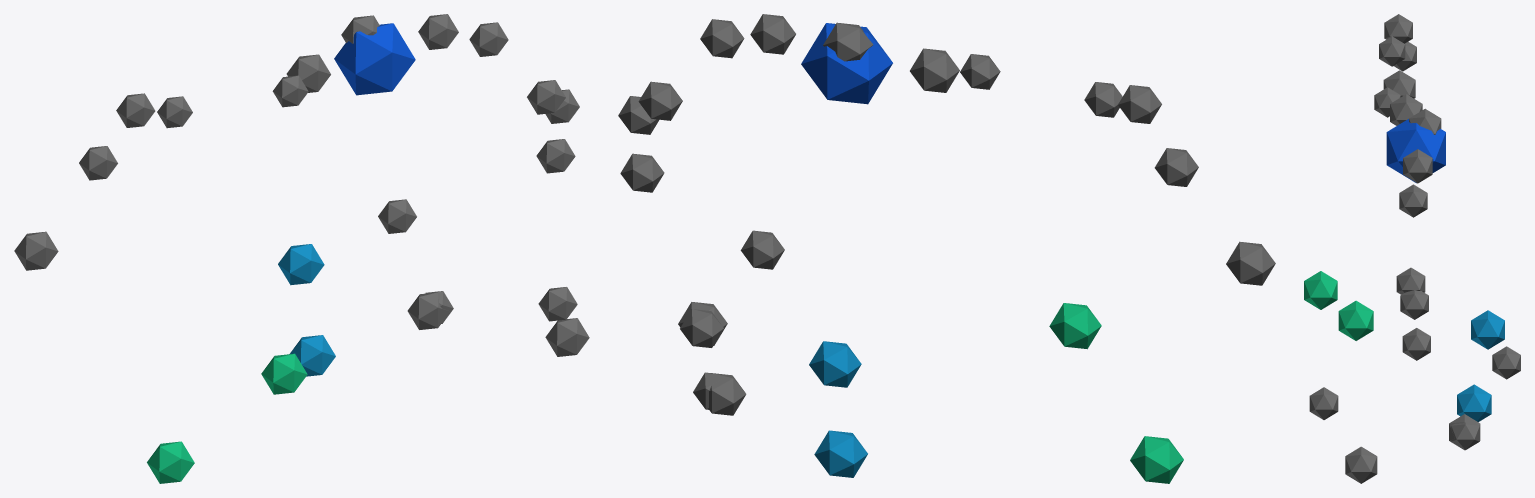
The picture shows the model from 3 angles, left to right: view 1: azimuth 30°, elevation 25°; view 2: azimuth 150°, elevation 25°; view 3: azimuth 270°, elevation 25°; orthographic projection. The views are drawn at different scales.
Visible parts, largest first — view 1: 01_00_09; view 2: 01_00_09; view 3: 01_00_09.
Boxes of the visible parts, left/top/right/bottom form: 01_00_09: left=14, top=14, right=589, bottom=483; 01_00_09: left=618, top=14, right=1275, bottom=483; 01_00_09: left=1304, top=14, right=1520, bottom=483.
Size of the model in its own units: 0.6522 by 0.4166 by 0.2554.
